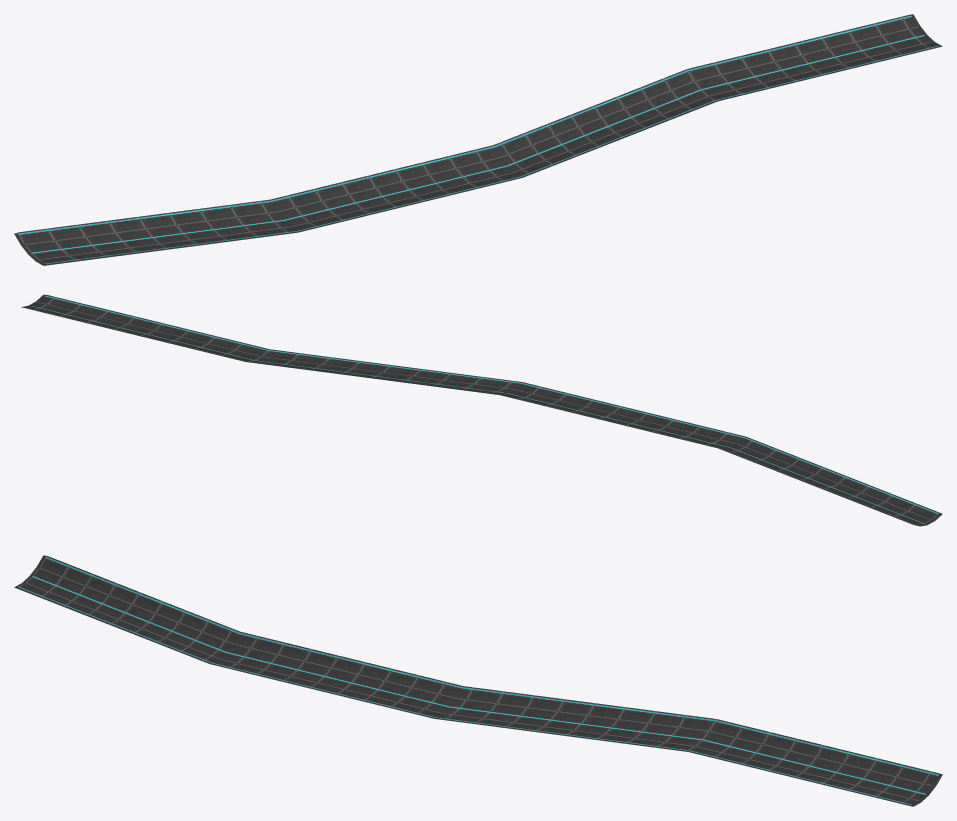
The model's file is movingPath3.fbx.
3 renders of one model, top to bottom at view 1: azimuth 30°, elevation 25°; view 2: azimuth 150°, elevation 25°; view 3: azimuth 330°, elevation 25°, orthographic.
Visible parts, largest first — view 1: tube; view 2: tube; view 3: tube.
Part boxes in pixels (x1,y1,x2,y2): tube: (14,14,942,265); tube: (21,294,942,526); tube: (14,555,942,806).
Size of the model in its own units: 3712 by 49.13 by 423.
